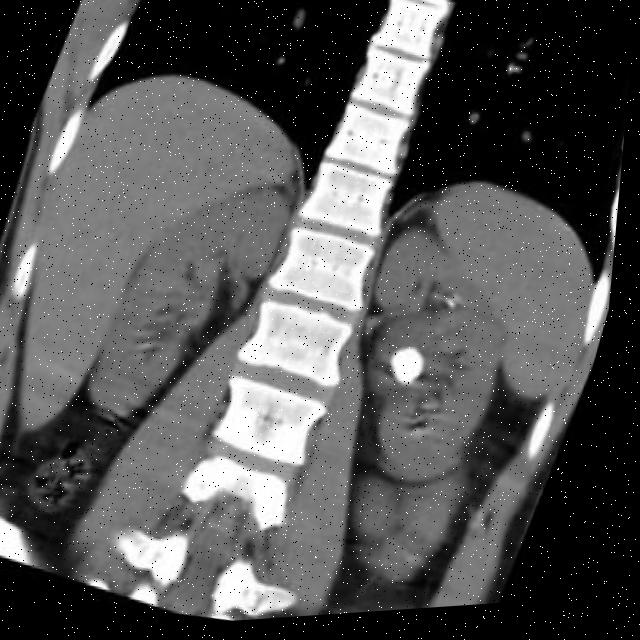Tas_Var: (385, 336, 445, 401), (443, 295, 472, 322)
